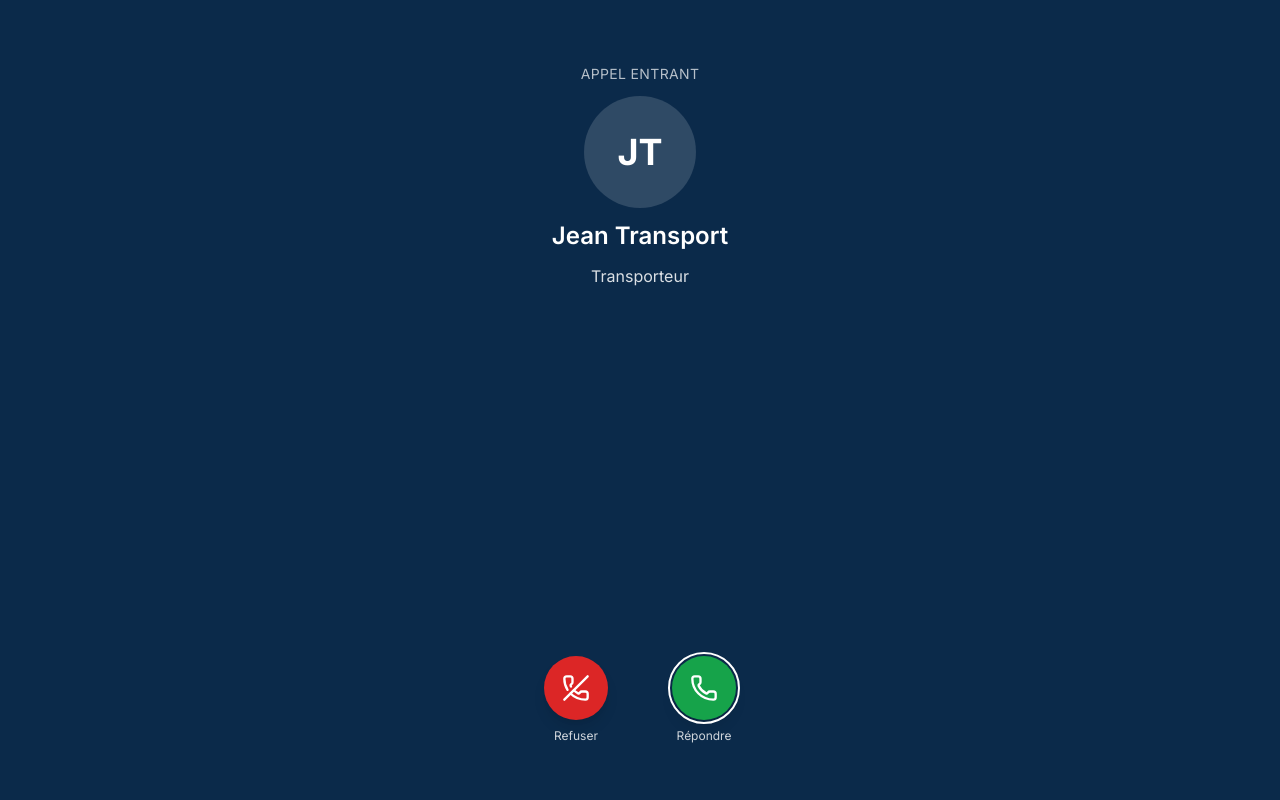
Test case: appel entrant › l'écran sonne, on répond, la conversation démarre avec son chronomètre, puis on raccroche
Expected: the text "Transporteur" is shown, x1=591 y1=264 x2=689 y2=288
Step 1. Click the button named "Répondre" → (704,688), box x1=672 y1=656 x2=736 y2=720
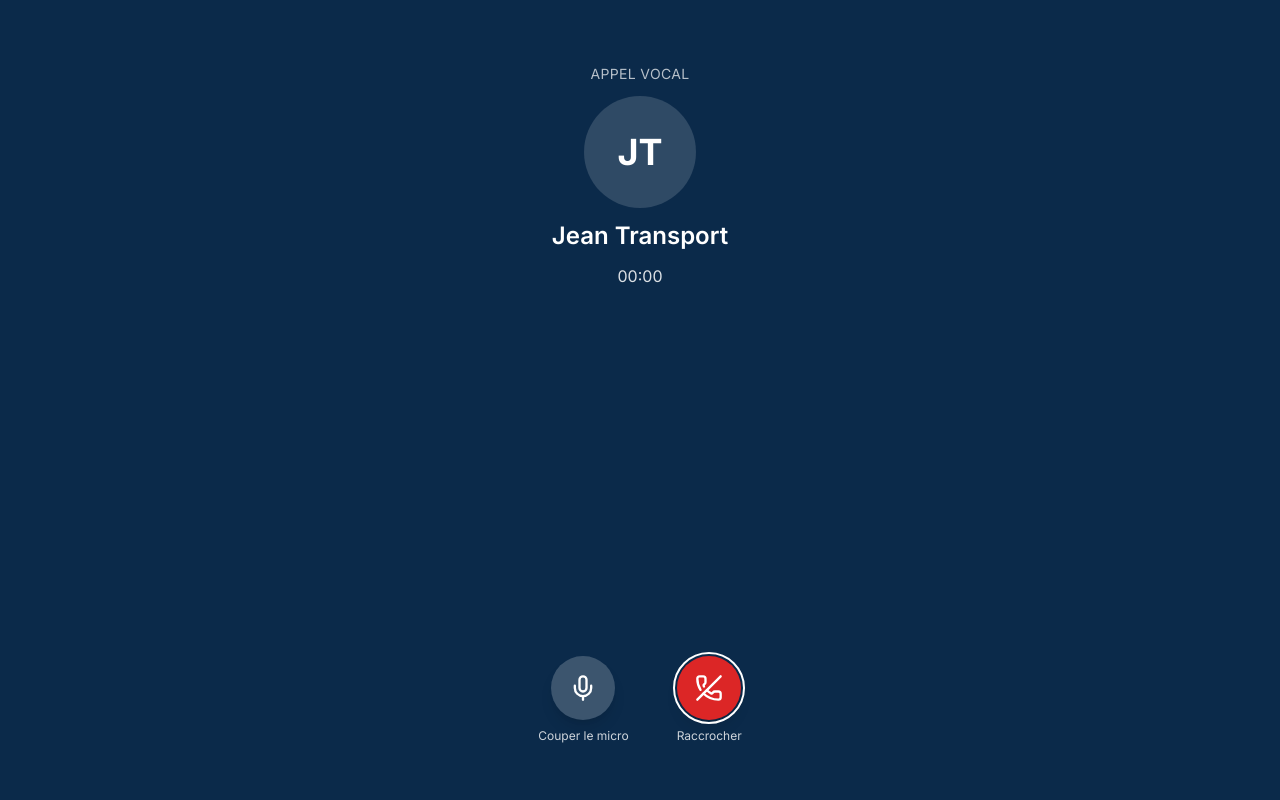
Expected: the text "Connexion…" is shown, x1=618 y1=264 x2=662 y2=288
Now the text "00:00" is shown, box x1=618 y1=266 x2=662 y2=286
Step 2. Click the button named "Couper le micro" → (583,688), box x1=551 y1=656 x2=615 y2=720
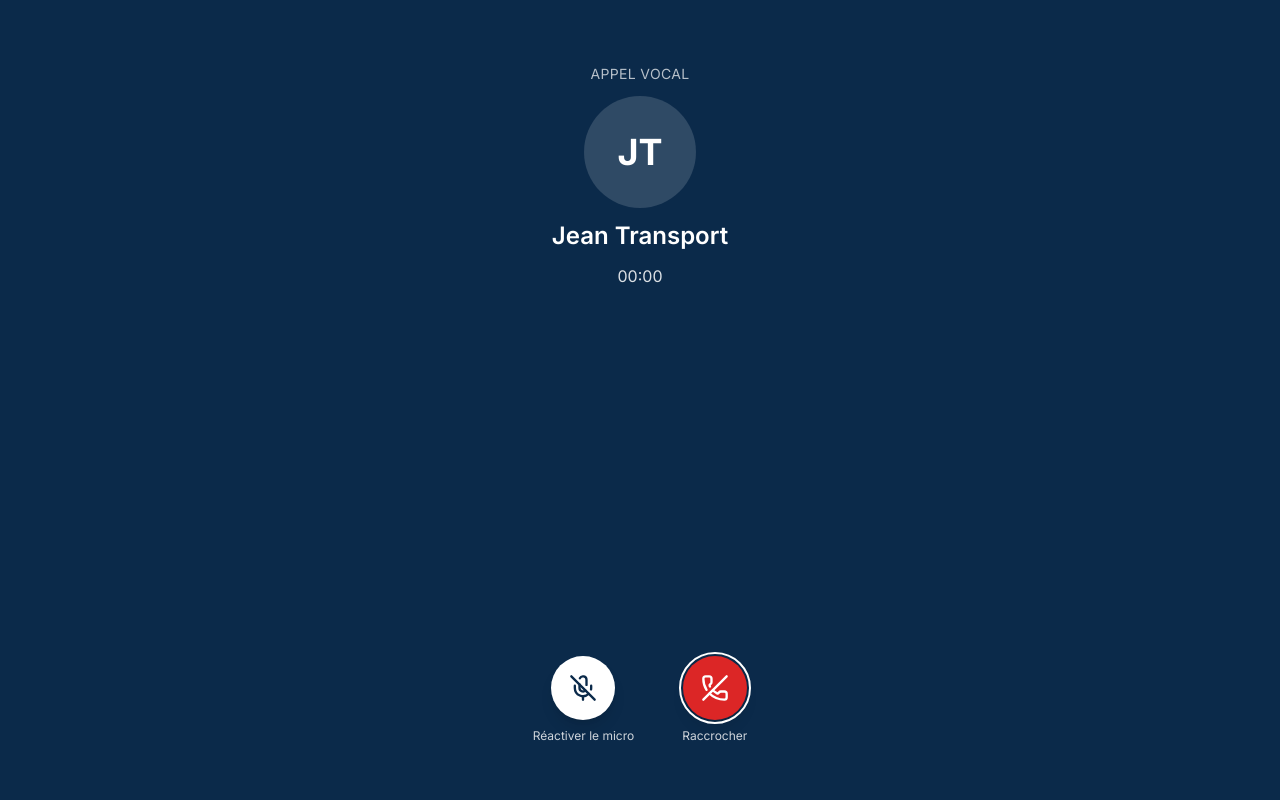
Now the button named "Réactiver le micro" is pressed, box x1=552 y1=656 x2=616 y2=720
Step 3. Click the button named "Raccrocher" → (715,688), box x1=683 y1=656 x2=747 y2=720
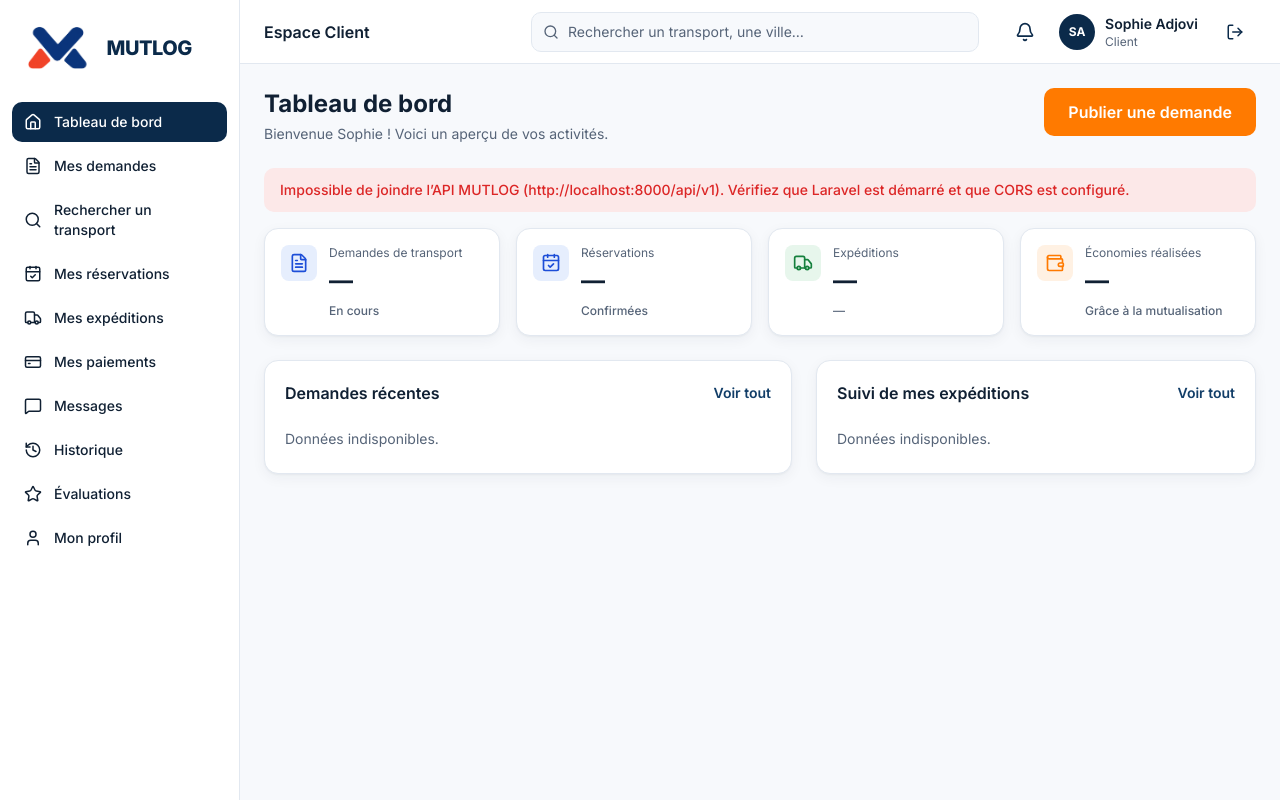
Now the text "Appel" is gone
